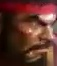ryu: (6, 0, 56, 65)
